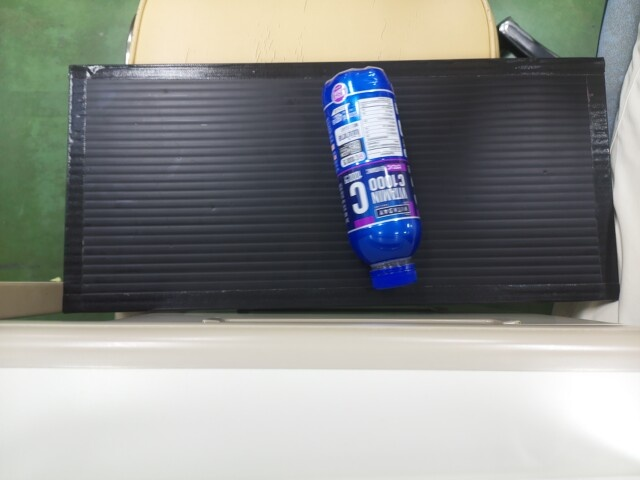plastic_bottle: (320, 65, 416, 287)
